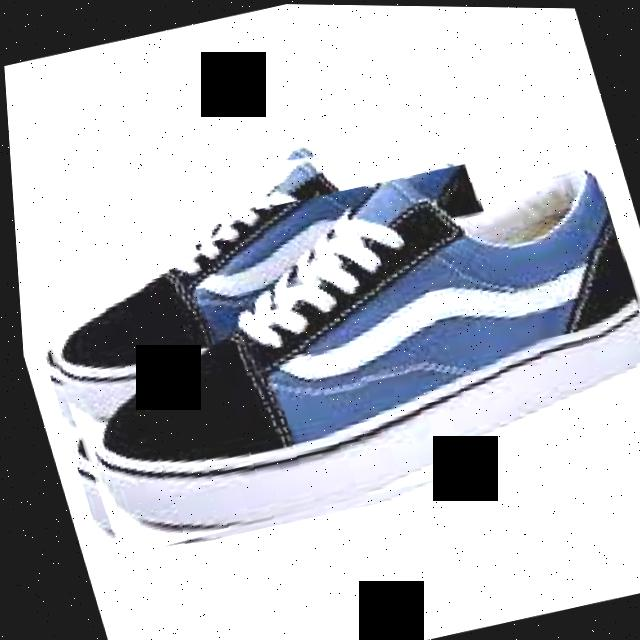shoe: (4, 72, 640, 569), (7, 128, 640, 564)
